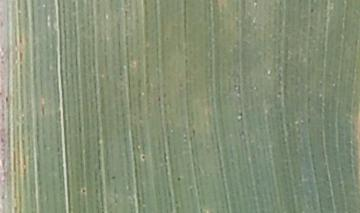tarspot: (5, 95, 11, 105), (240, 128, 246, 138), (79, 187, 87, 194), (140, 154, 147, 161), (175, 176, 182, 182), (278, 89, 283, 97), (111, 176, 117, 181)
